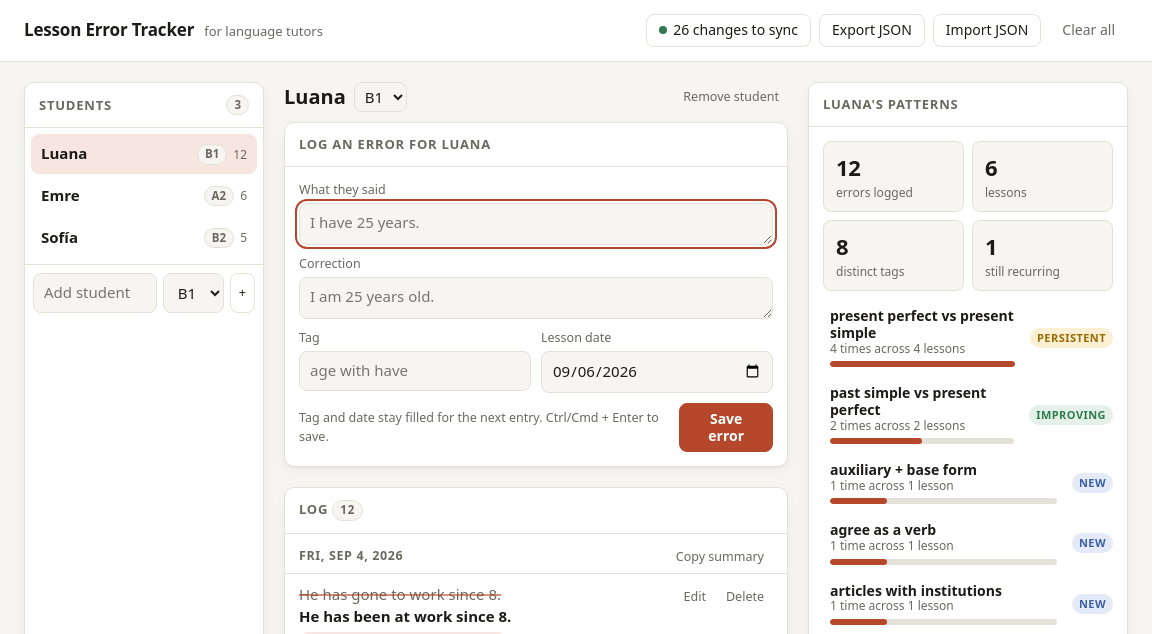
Test: sync › signing out keeps the data on the device
This screenshot has width=1152, height=634.
Click the button "26 changes to sync".
click(729, 30)  # box [646, 14, 811, 47]
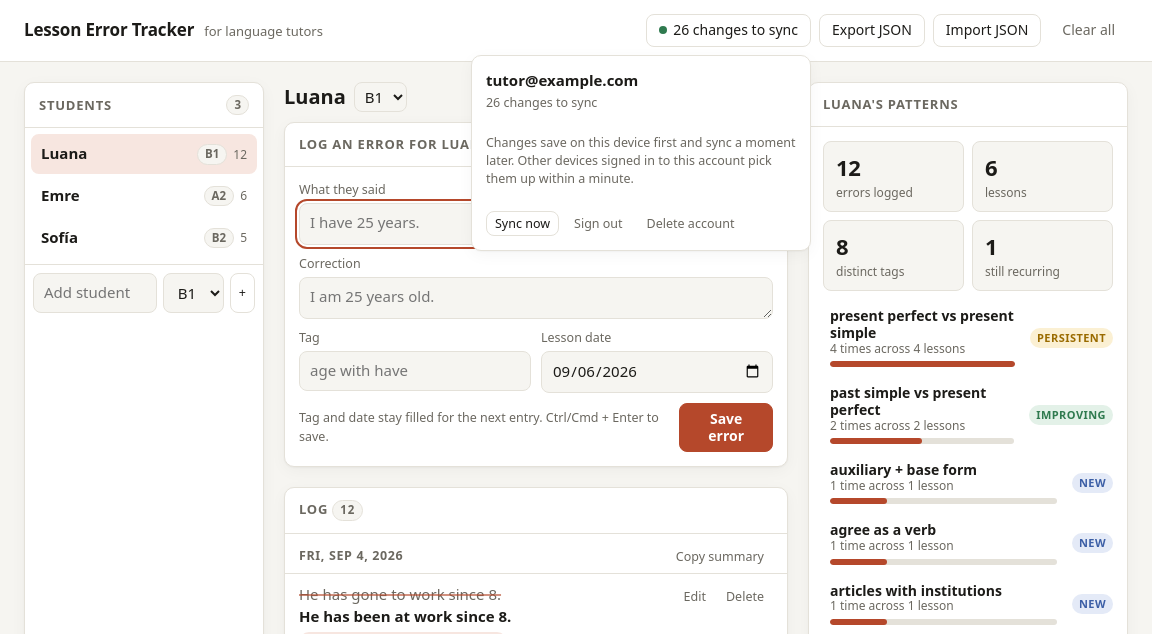
Click the button "Sign out".
click(598, 224)  # box [565, 211, 632, 236]
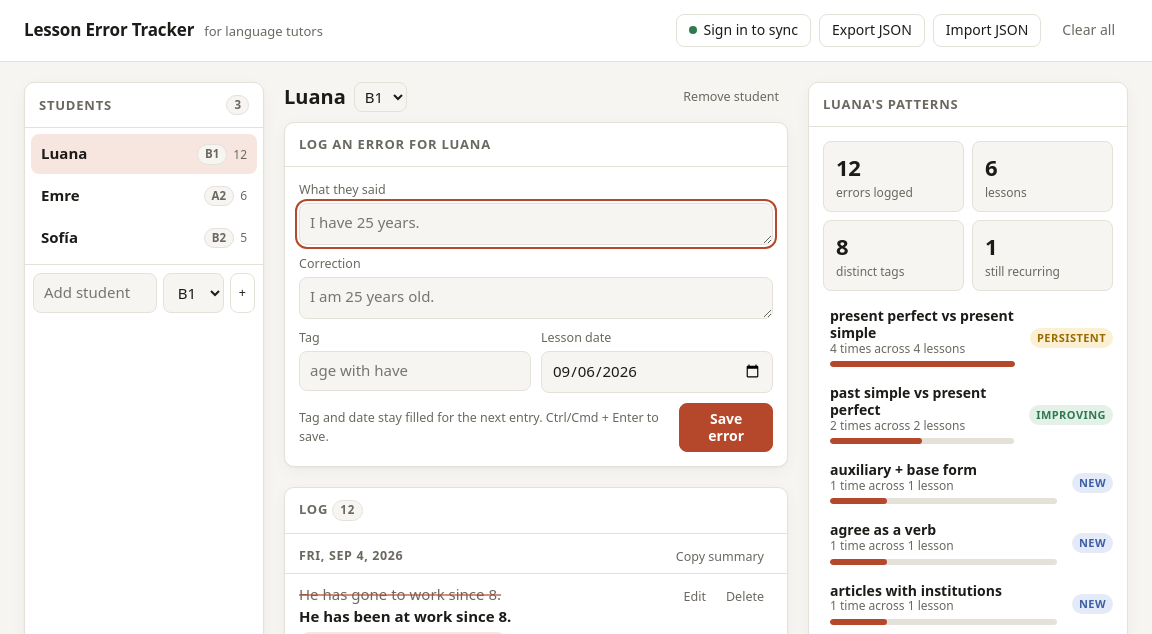
expect the button "Luana B1 12" is shown: met, box [31, 134, 257, 174]
expect the button "Sign in to sync" is shown: met, box [676, 14, 811, 47]
